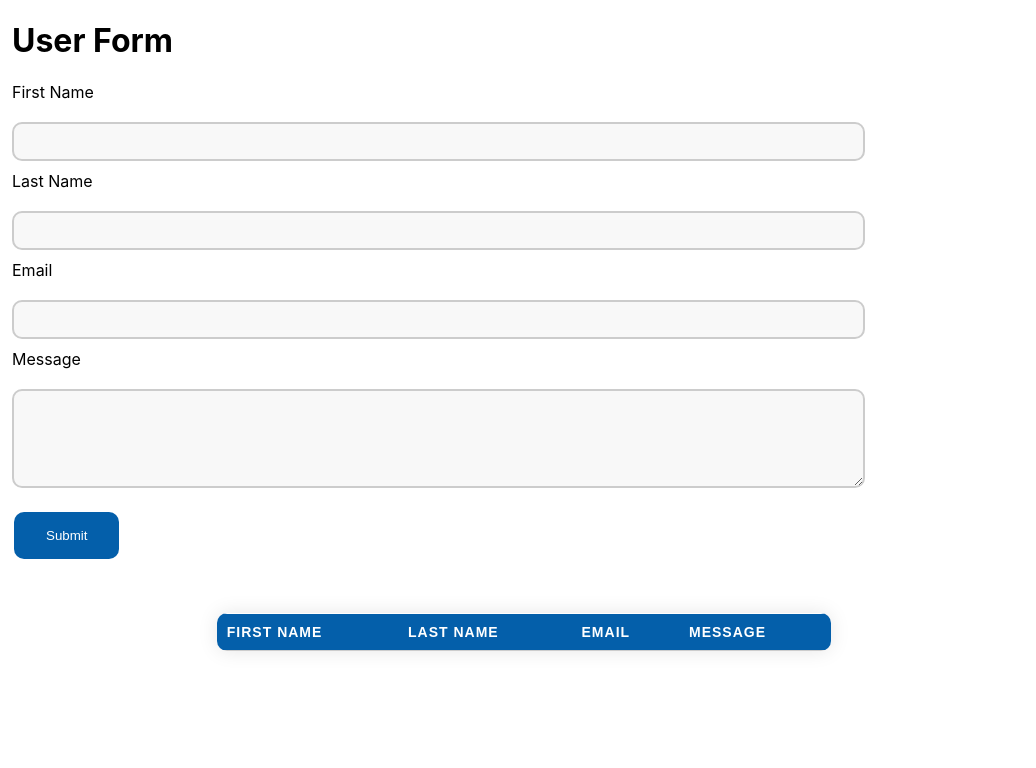
Scenario: FormComponent › should display errors when submitting with empty fields
The image size is (1036, 768).
Click the button "Submit" at coordinates (67, 535), box [14,512,120,559]
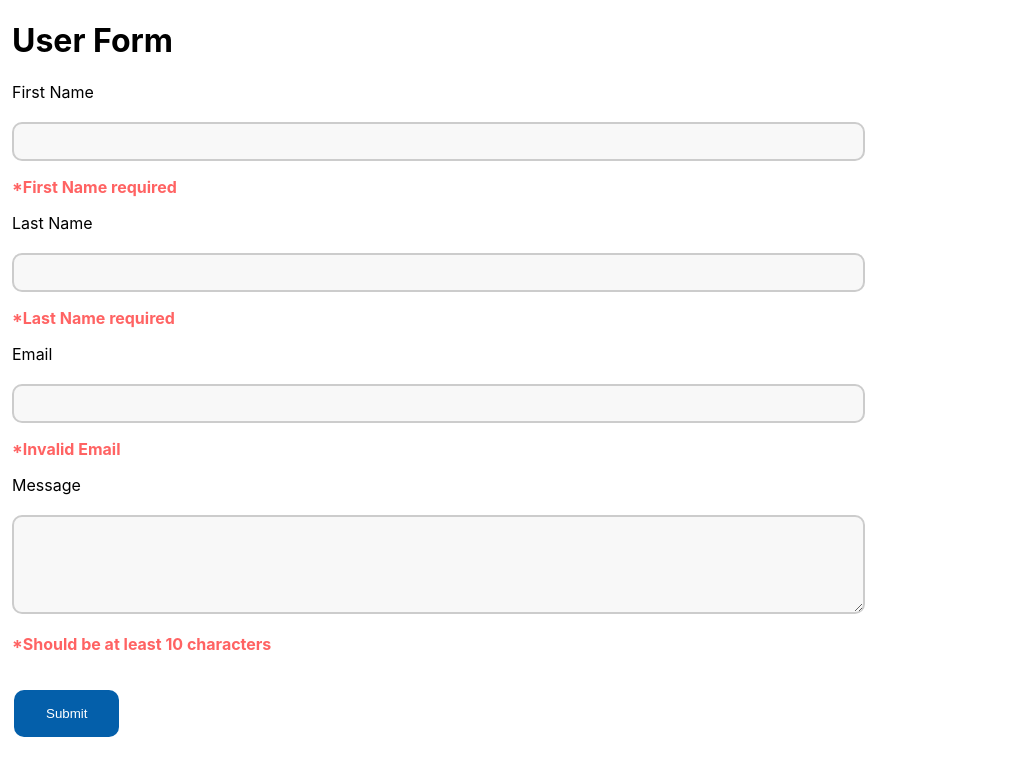
Expected: the text "*First Name required" is shown, [12,177,177,197]
Expected: the text "*Last Name required" is shown, [12,308,175,328]
Expected: the text "*Invalid Email" is shown, [12,439,120,459]
